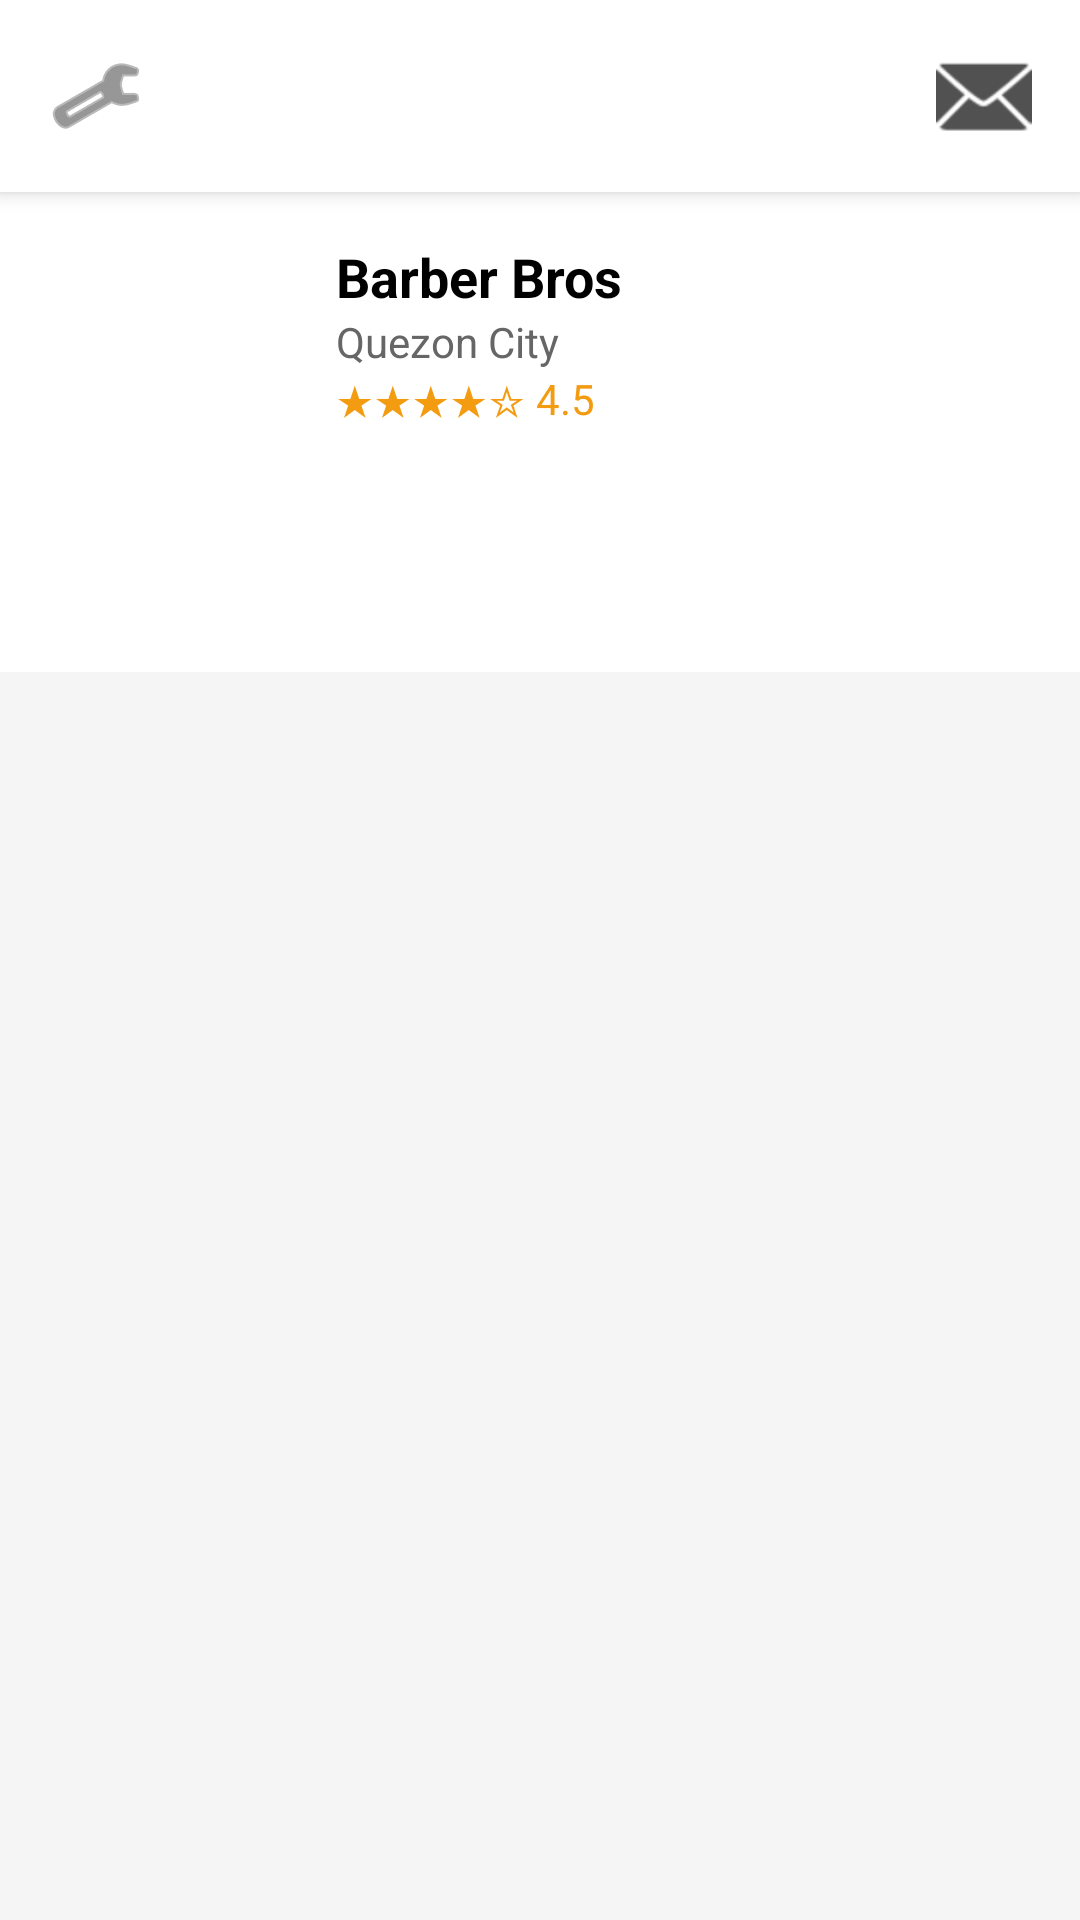

Where icons sit on this 1080x1920 app screen, as region(x1, y1, x2, y2):
Settings: region(53, 63, 139, 129)
